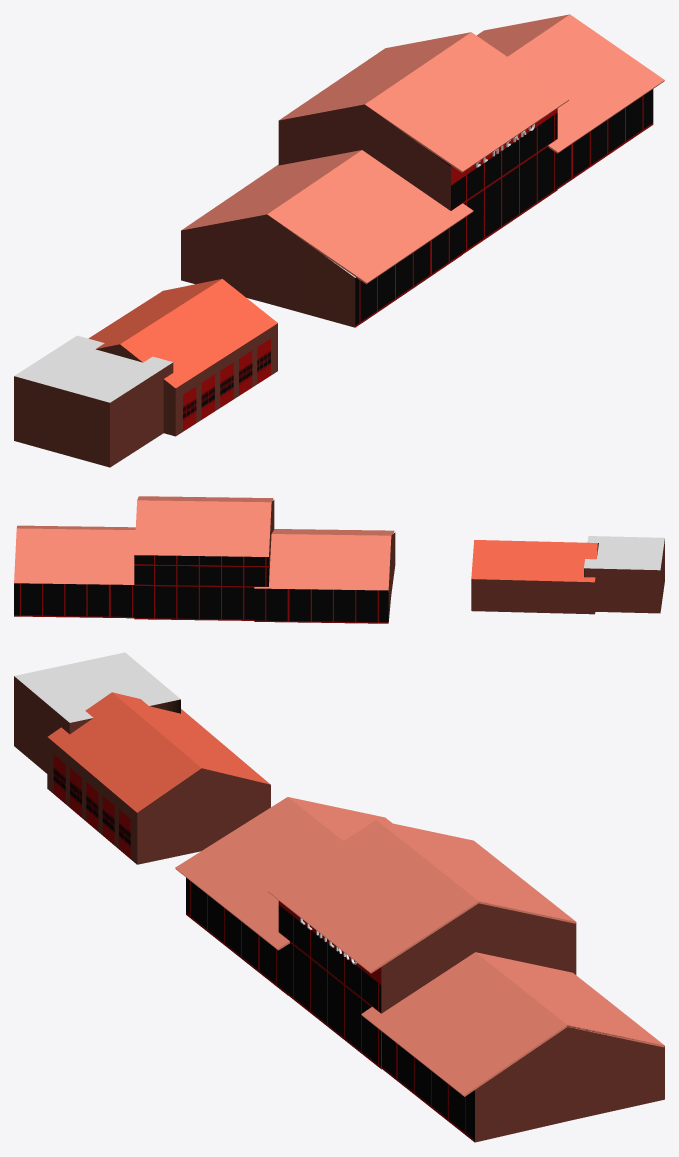
File: ElHierro.glb
3 renders of one model, top to bottom at view 1: azimuth 30°, elevation 25°; view 2: azimuth 150°, elevation 25°; view 3: azimuth 270°, elevation 25°, orthographic. The views are drawn at different scales.
Visible parts, largest first — view 1: Buffer Object 1, Buffer Object 2, Buffer Object, Buffer Object 5, Buffer Object 11, Buffer Object 12, Buffer Object 4; view 2: Buffer Object 1, Buffer Object, Buffer Object 5, Buffer Object 4, Buffer Object 11, Buffer Object 12, Buffer Object 2; view 3: Buffer Object 1, Buffer Object 2, Buffer Object, Buffer Object 5, Buffer Object 4, Buffer Object 12, Buffer Object 11.
Part boxes in pixels (x1,y1,x2,y2): Buffer Object 1: [181, 14, 664, 284]; Buffer Object 2: [181, 104, 450, 327]; Buffer Object: [355, 89, 653, 327]; Buffer Object 5: [88, 279, 277, 388]; Buffer Object 11: [14, 362, 173, 467]; Buffer Object 12: [14, 335, 172, 402]; Buffer Object 4: [96, 323, 277, 436]; Buffer Object 1: [14, 496, 394, 590]; Buffer Object: [14, 555, 388, 623]; Buffer Object 5: [471, 540, 597, 582]; Buffer Object 4: [471, 543, 598, 614]; Buffer Object 11: [584, 539, 664, 613]; Buffer Object 12: [584, 536, 664, 570]; Buffer Object 2: [269, 500, 395, 621]; Buffer Object 1: [175, 797, 664, 1096]; Buffer Object 2: [381, 903, 664, 1142]; Buffer Object: [186, 877, 474, 1142]; Buffer Object 5: [48, 692, 270, 812]; Buffer Object 4: [47, 737, 270, 864]; Buffer Object 12: [14, 652, 180, 722]; Buffer Object 11: [14, 676, 180, 773].
Size of the model in its own units: 142 by 23.09 by 91.46.
Materials: 3 (1 with a texture image).
